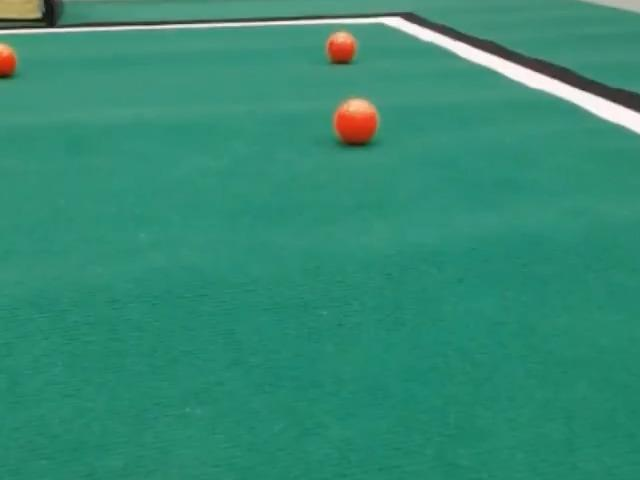Ball: (333, 98, 378, 145), (326, 30, 356, 64), (0, 43, 16, 77)
